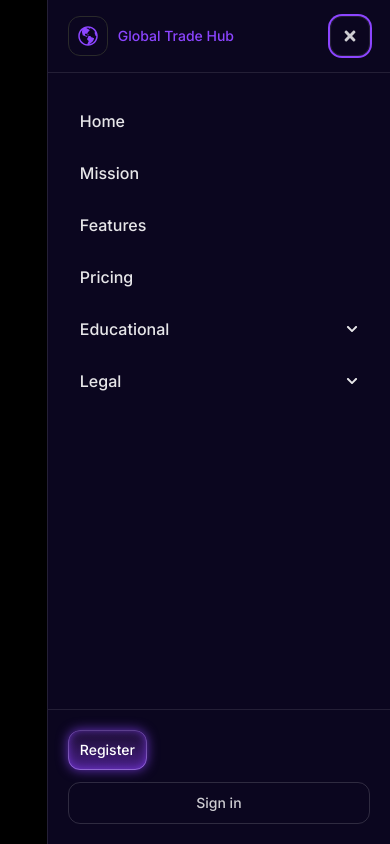
Test: MobileDrawer › expands the Educational section and lists at least one article link
The image size is (390, 844).
Click the button "Educational". click: {"x": 125, "y": 329}
box: [68, 305, 370, 353]
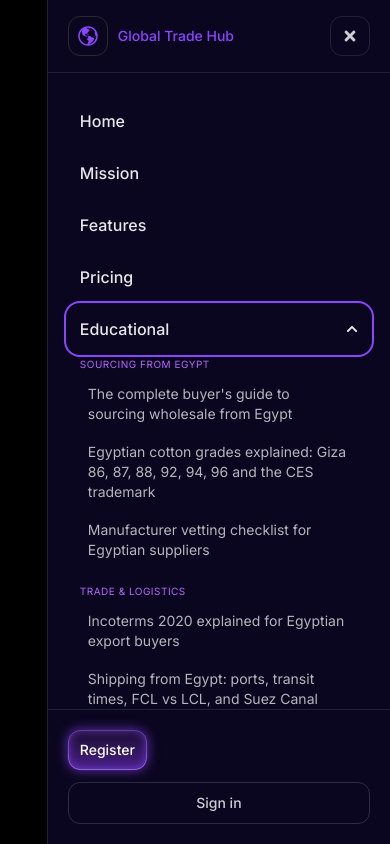
Result: the button "Educational" is expanded at [68, 305, 370, 353]
